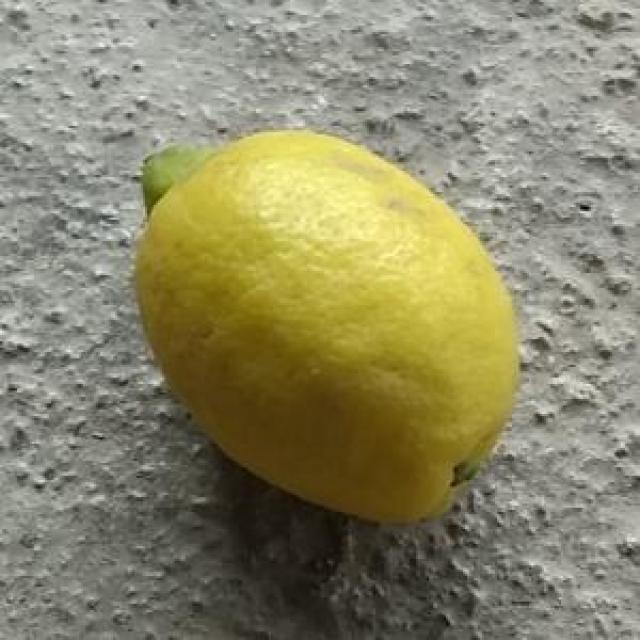lemon: (132, 123, 522, 536)
